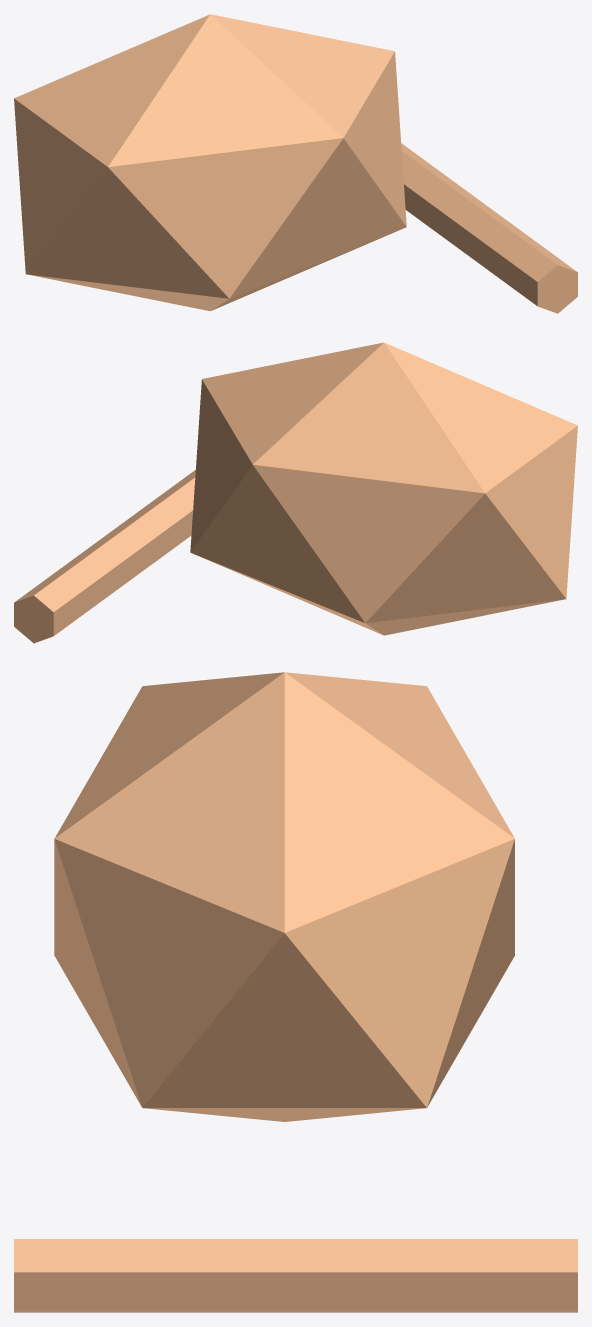
3 views of the same model, one above another, from view 1: azimuth 30°, elevation 25°; view 2: azimuth 150°, elevation 25°; view 3: azimuth 270°, elevation 25° (orthographic). The views are drawn at different scales.
Visible parts, largest first — view 1: Wooden fish drum, Mallet; view 2: Wooden fish drum, Mallet; view 3: Wooden fish drum, Mallet.
Boxes of the visible parts, x1,y1,x2,y2 form: Wooden fish drum: (14,14,406,311); Mallet: (401,143,577,313); Wooden fish drum: (190,342,577,635); Mallet: (14,470,195,643); Wooden fish drum: (54,672,514,1121); Mallet: (14,1239,577,1312).
Bounding box in the file's own units: 0.3587 × 0.22 × 0.25.
Materials: 1 (1 with a texture image).
